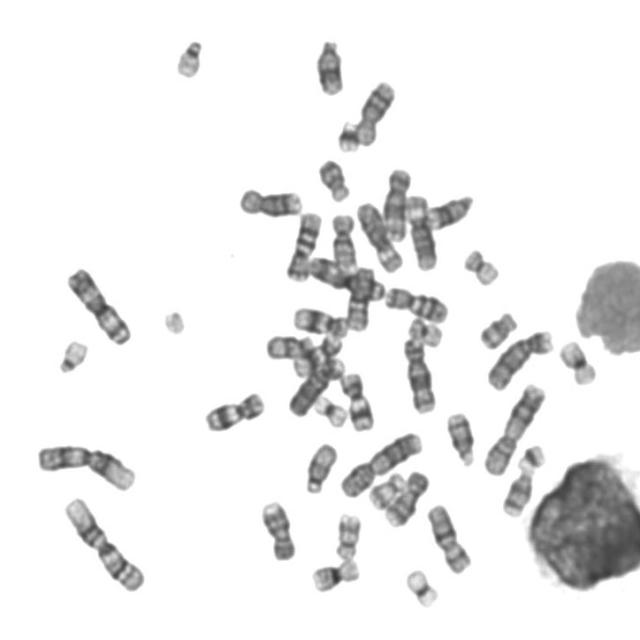A1: (60, 491, 148, 595), (32, 437, 139, 493)
A2: (480, 378, 548, 478), (337, 426, 425, 500)
A3: (63, 262, 134, 347), (305, 252, 387, 302)
B4: (484, 324, 556, 392), (284, 352, 346, 419)
B5: (399, 333, 439, 416), (381, 166, 414, 243)
C10: (343, 262, 377, 332), (326, 208, 360, 272)
C11: (201, 387, 267, 434), (336, 368, 376, 433)
C12: (289, 332, 346, 378), (289, 302, 350, 339)
C6: (352, 197, 406, 274), (402, 190, 441, 272)
C7: (282, 206, 324, 283), (381, 280, 451, 324)
C8: (351, 74, 398, 148), (235, 182, 305, 218)
C9: (381, 467, 432, 528), (256, 495, 299, 563)
D13: (419, 188, 476, 232), (264, 334, 316, 362)
D14: (498, 465, 538, 519), (443, 408, 478, 468)
D15: (311, 34, 347, 97), (302, 439, 339, 496)
E16: (555, 335, 600, 387), (308, 554, 363, 595)
E17: (365, 468, 408, 511), (331, 508, 363, 563)
E18: (476, 306, 520, 350), (314, 154, 353, 203)
F19: (401, 564, 441, 610), (310, 390, 350, 430)
F20: (460, 244, 503, 288), (404, 312, 446, 348)
G21: (332, 115, 362, 153), (514, 440, 549, 472)
G22: (171, 33, 206, 79), (54, 335, 91, 376)
X: (423, 499, 475, 576)
